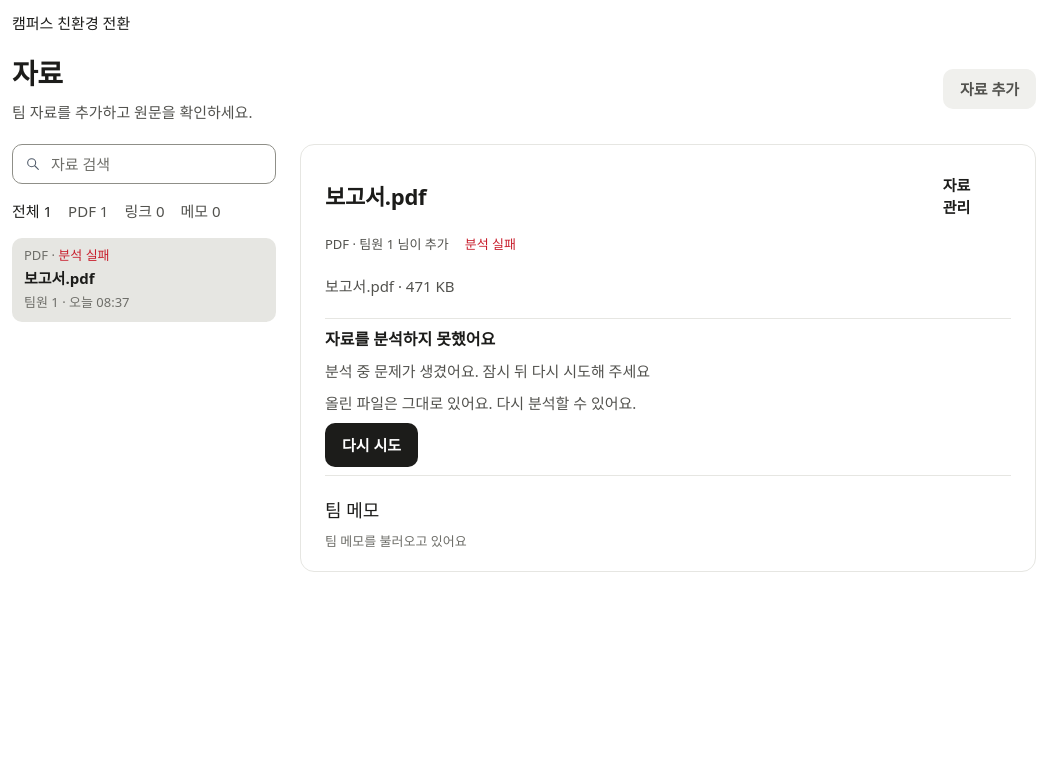
분석 실패는 파일을 다시 올리지 않고 같은 키로 다시 시도한다
Expected: the text "자료를 분석하지 못했어요" is shown, [325,328,495,350]
Expected: the text "올린 파일은 그대로 있어요. 다시 분석할 수 있어요." is shown, [325,393,636,413]
Step 1. Click the button "다시 시도" → x=372, y=445, box [325,423,418,467]
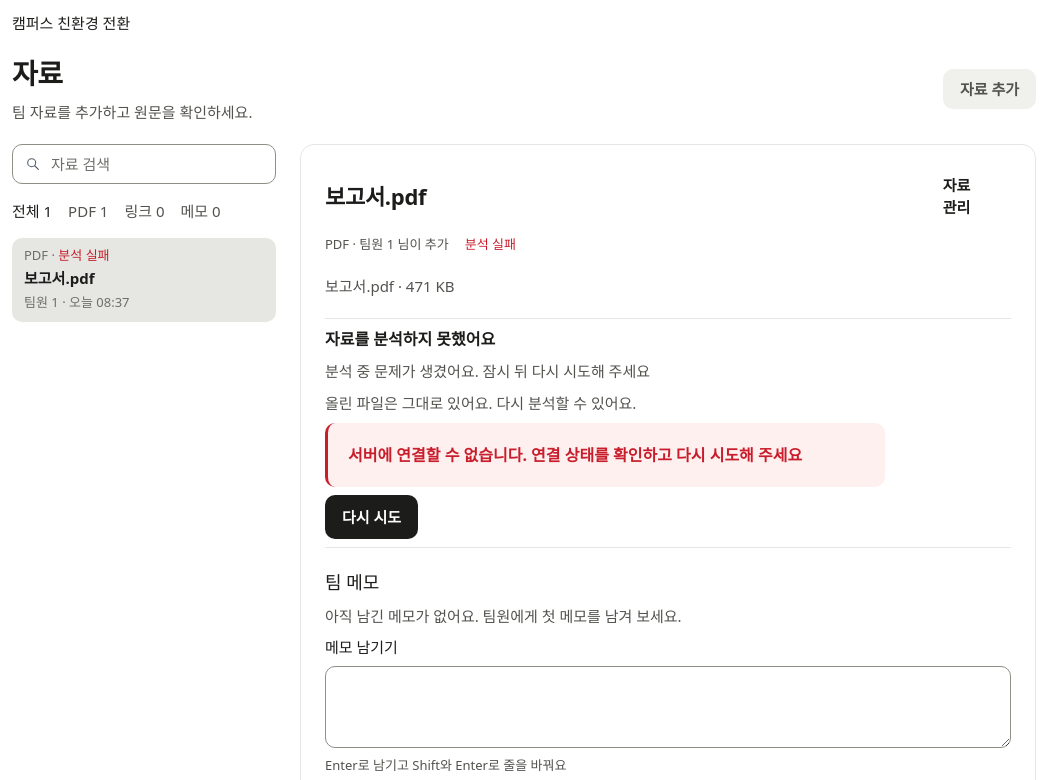
Result: the text "서버에 연결할 수 없습니다. 연결 상태를 확인하고 다시 시도해 주세요" is shown at [348,443,802,467]
Step 2. Click the button "다시 시도" → x=372, y=517, box [325,495,418,539]
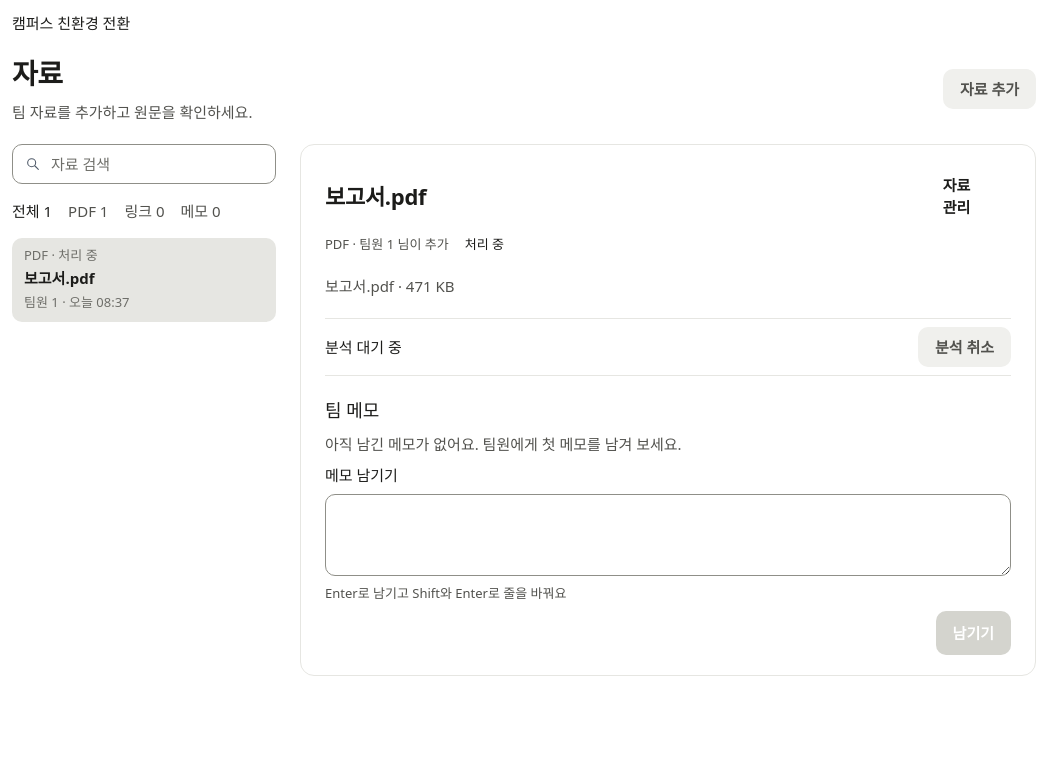
Result: the text "분석 대기 중" is shown at [325,336,402,358]
